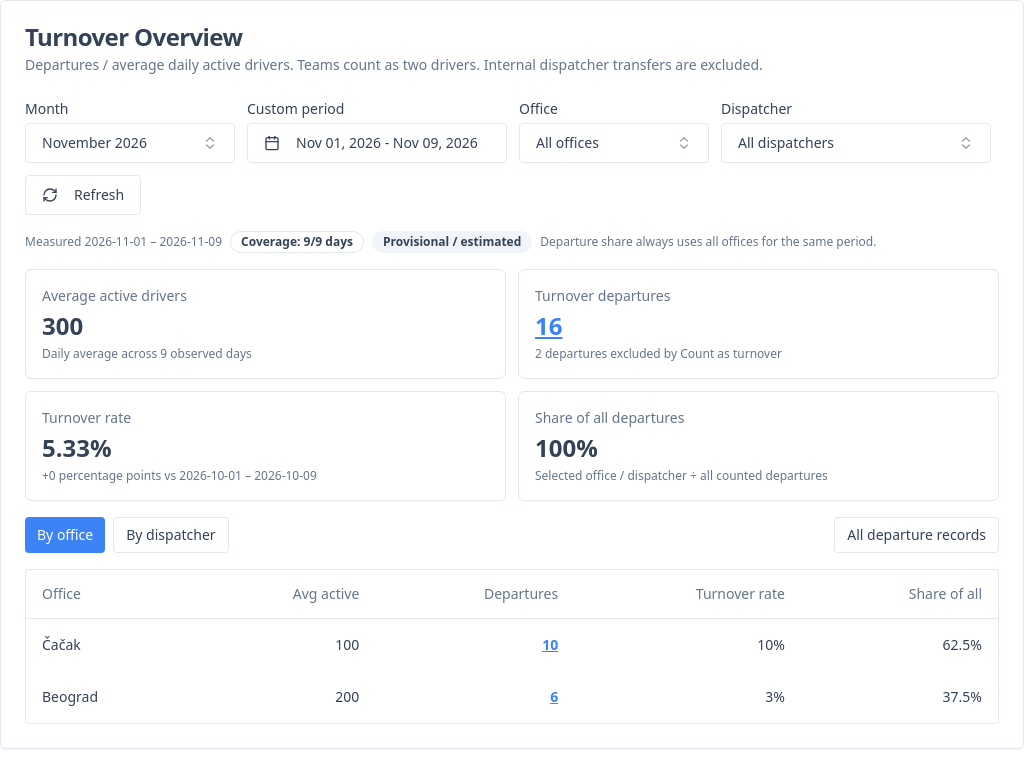
Test case: Turnover overview › opens departure detail lazily and paginates server-side
Later steps or results of the test are not shown.
Expected: the text "5.33%" is shown, [42,431,112,464]
Step 1. Click the button "16" → (549,326), box [535,310,562,342]
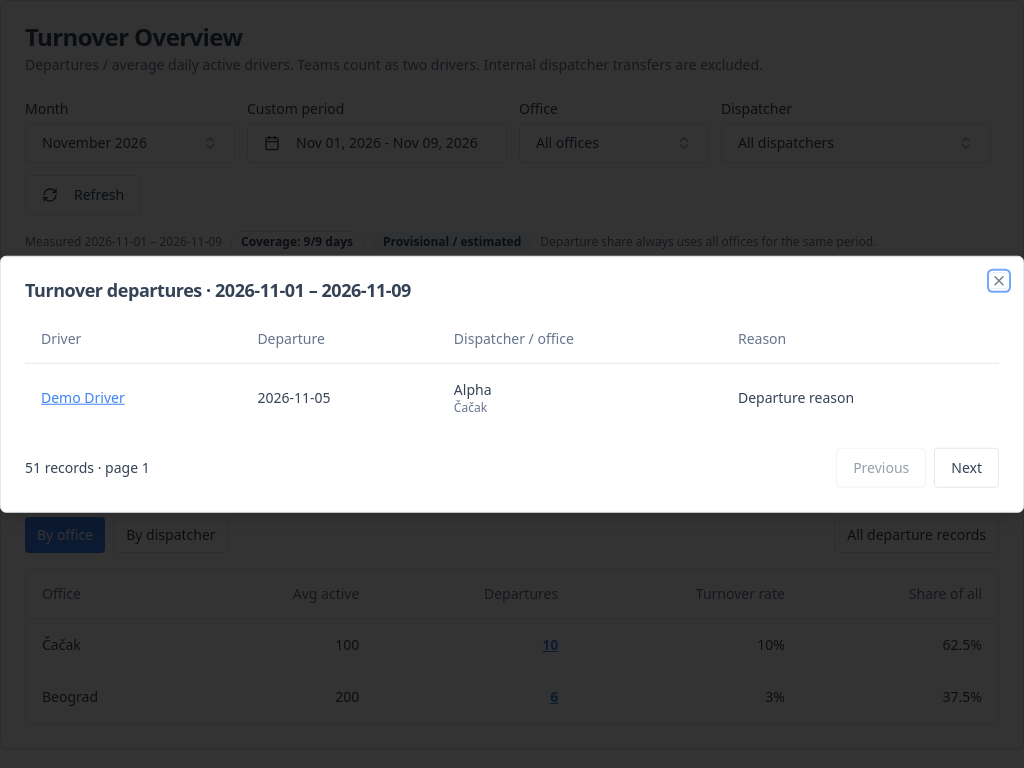
Expected: the link "Demo Driver" is shown, [41,387,125,406]
Expected: the text "Departure reason" is shown, [722,363,999,431]
